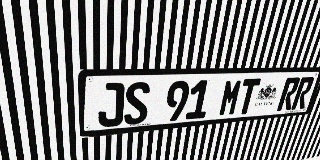1: (185, 80, 212, 120)
9: (164, 81, 191, 122)
J: (98, 82, 125, 128)
M: (218, 79, 244, 117)
R: (276, 77, 301, 111), (291, 77, 315, 110)
S: (124, 82, 150, 125)
T: (236, 78, 261, 115)
